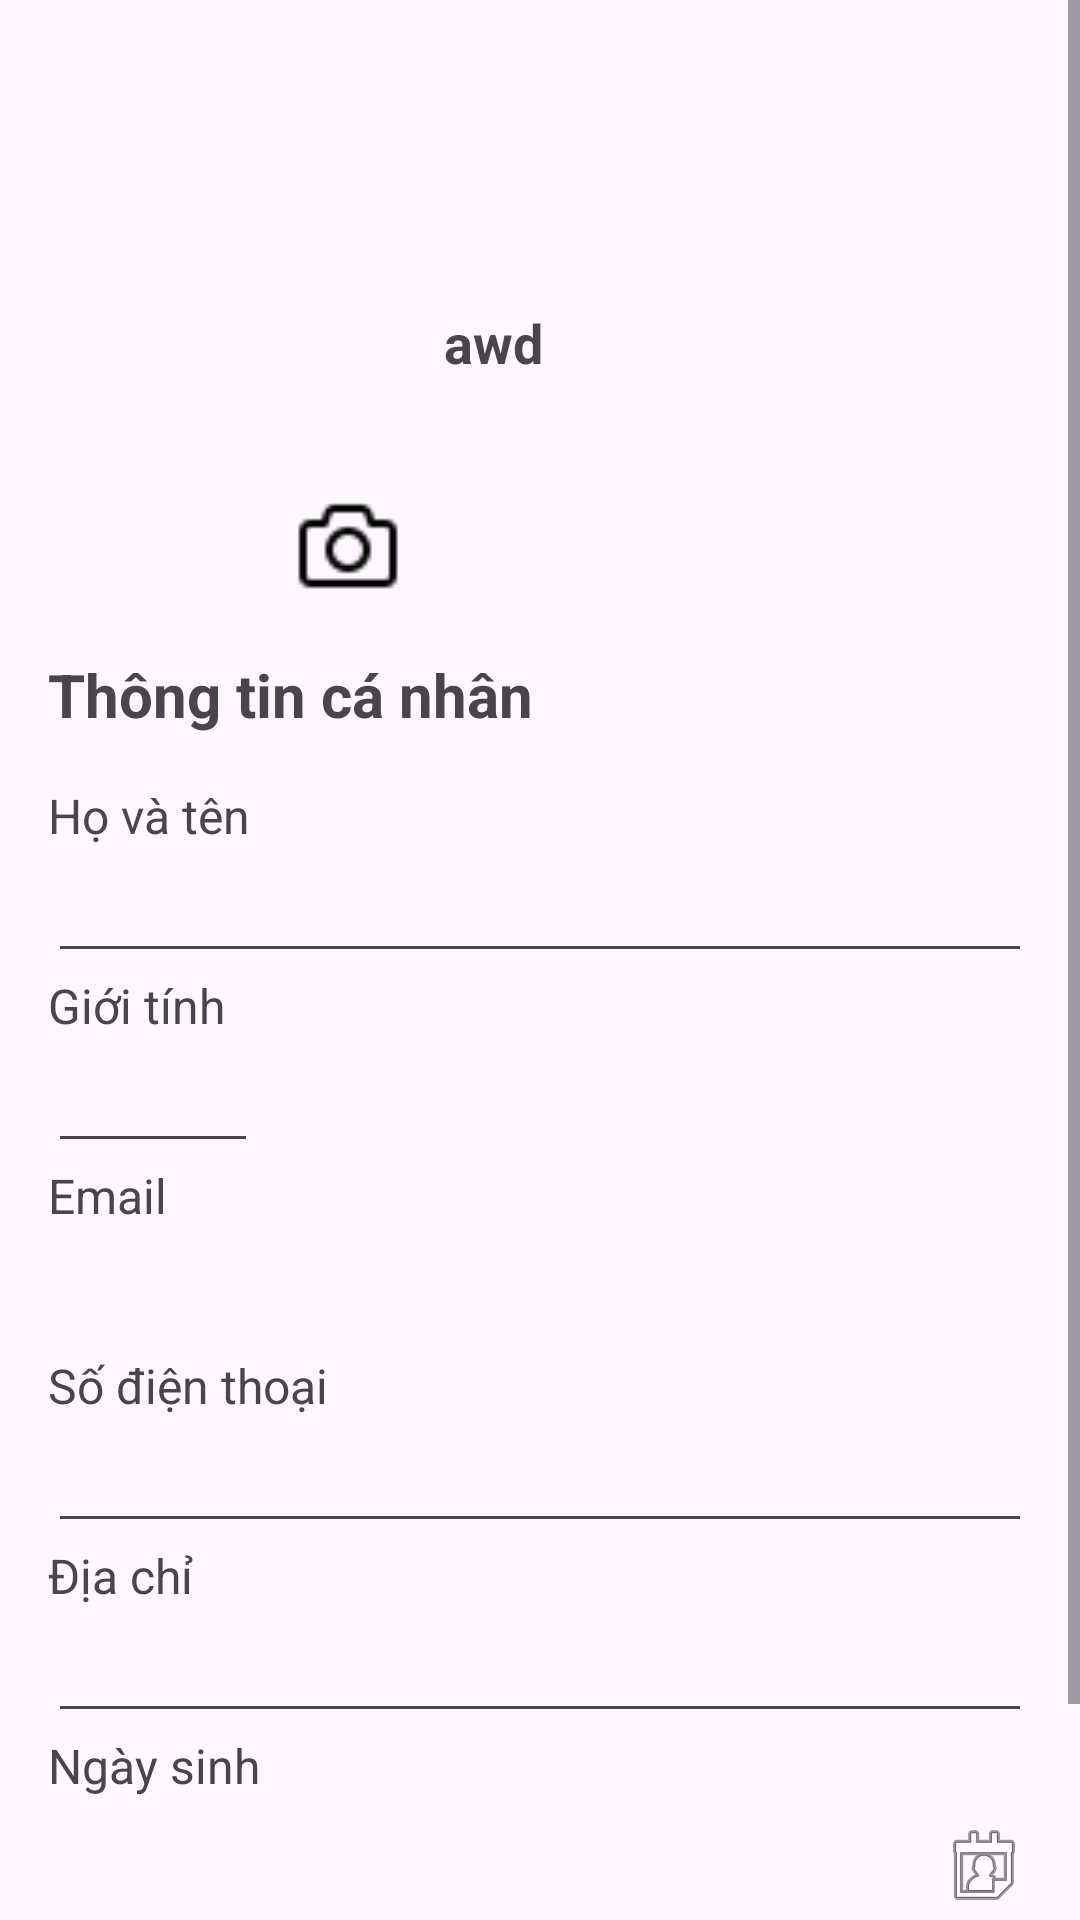

Where icons sit on this 1080px×1920px app screen, as (x1, y1, x2, y2):
calendar: (953, 1830, 1015, 1900)
camera change: (298, 503, 398, 589)
